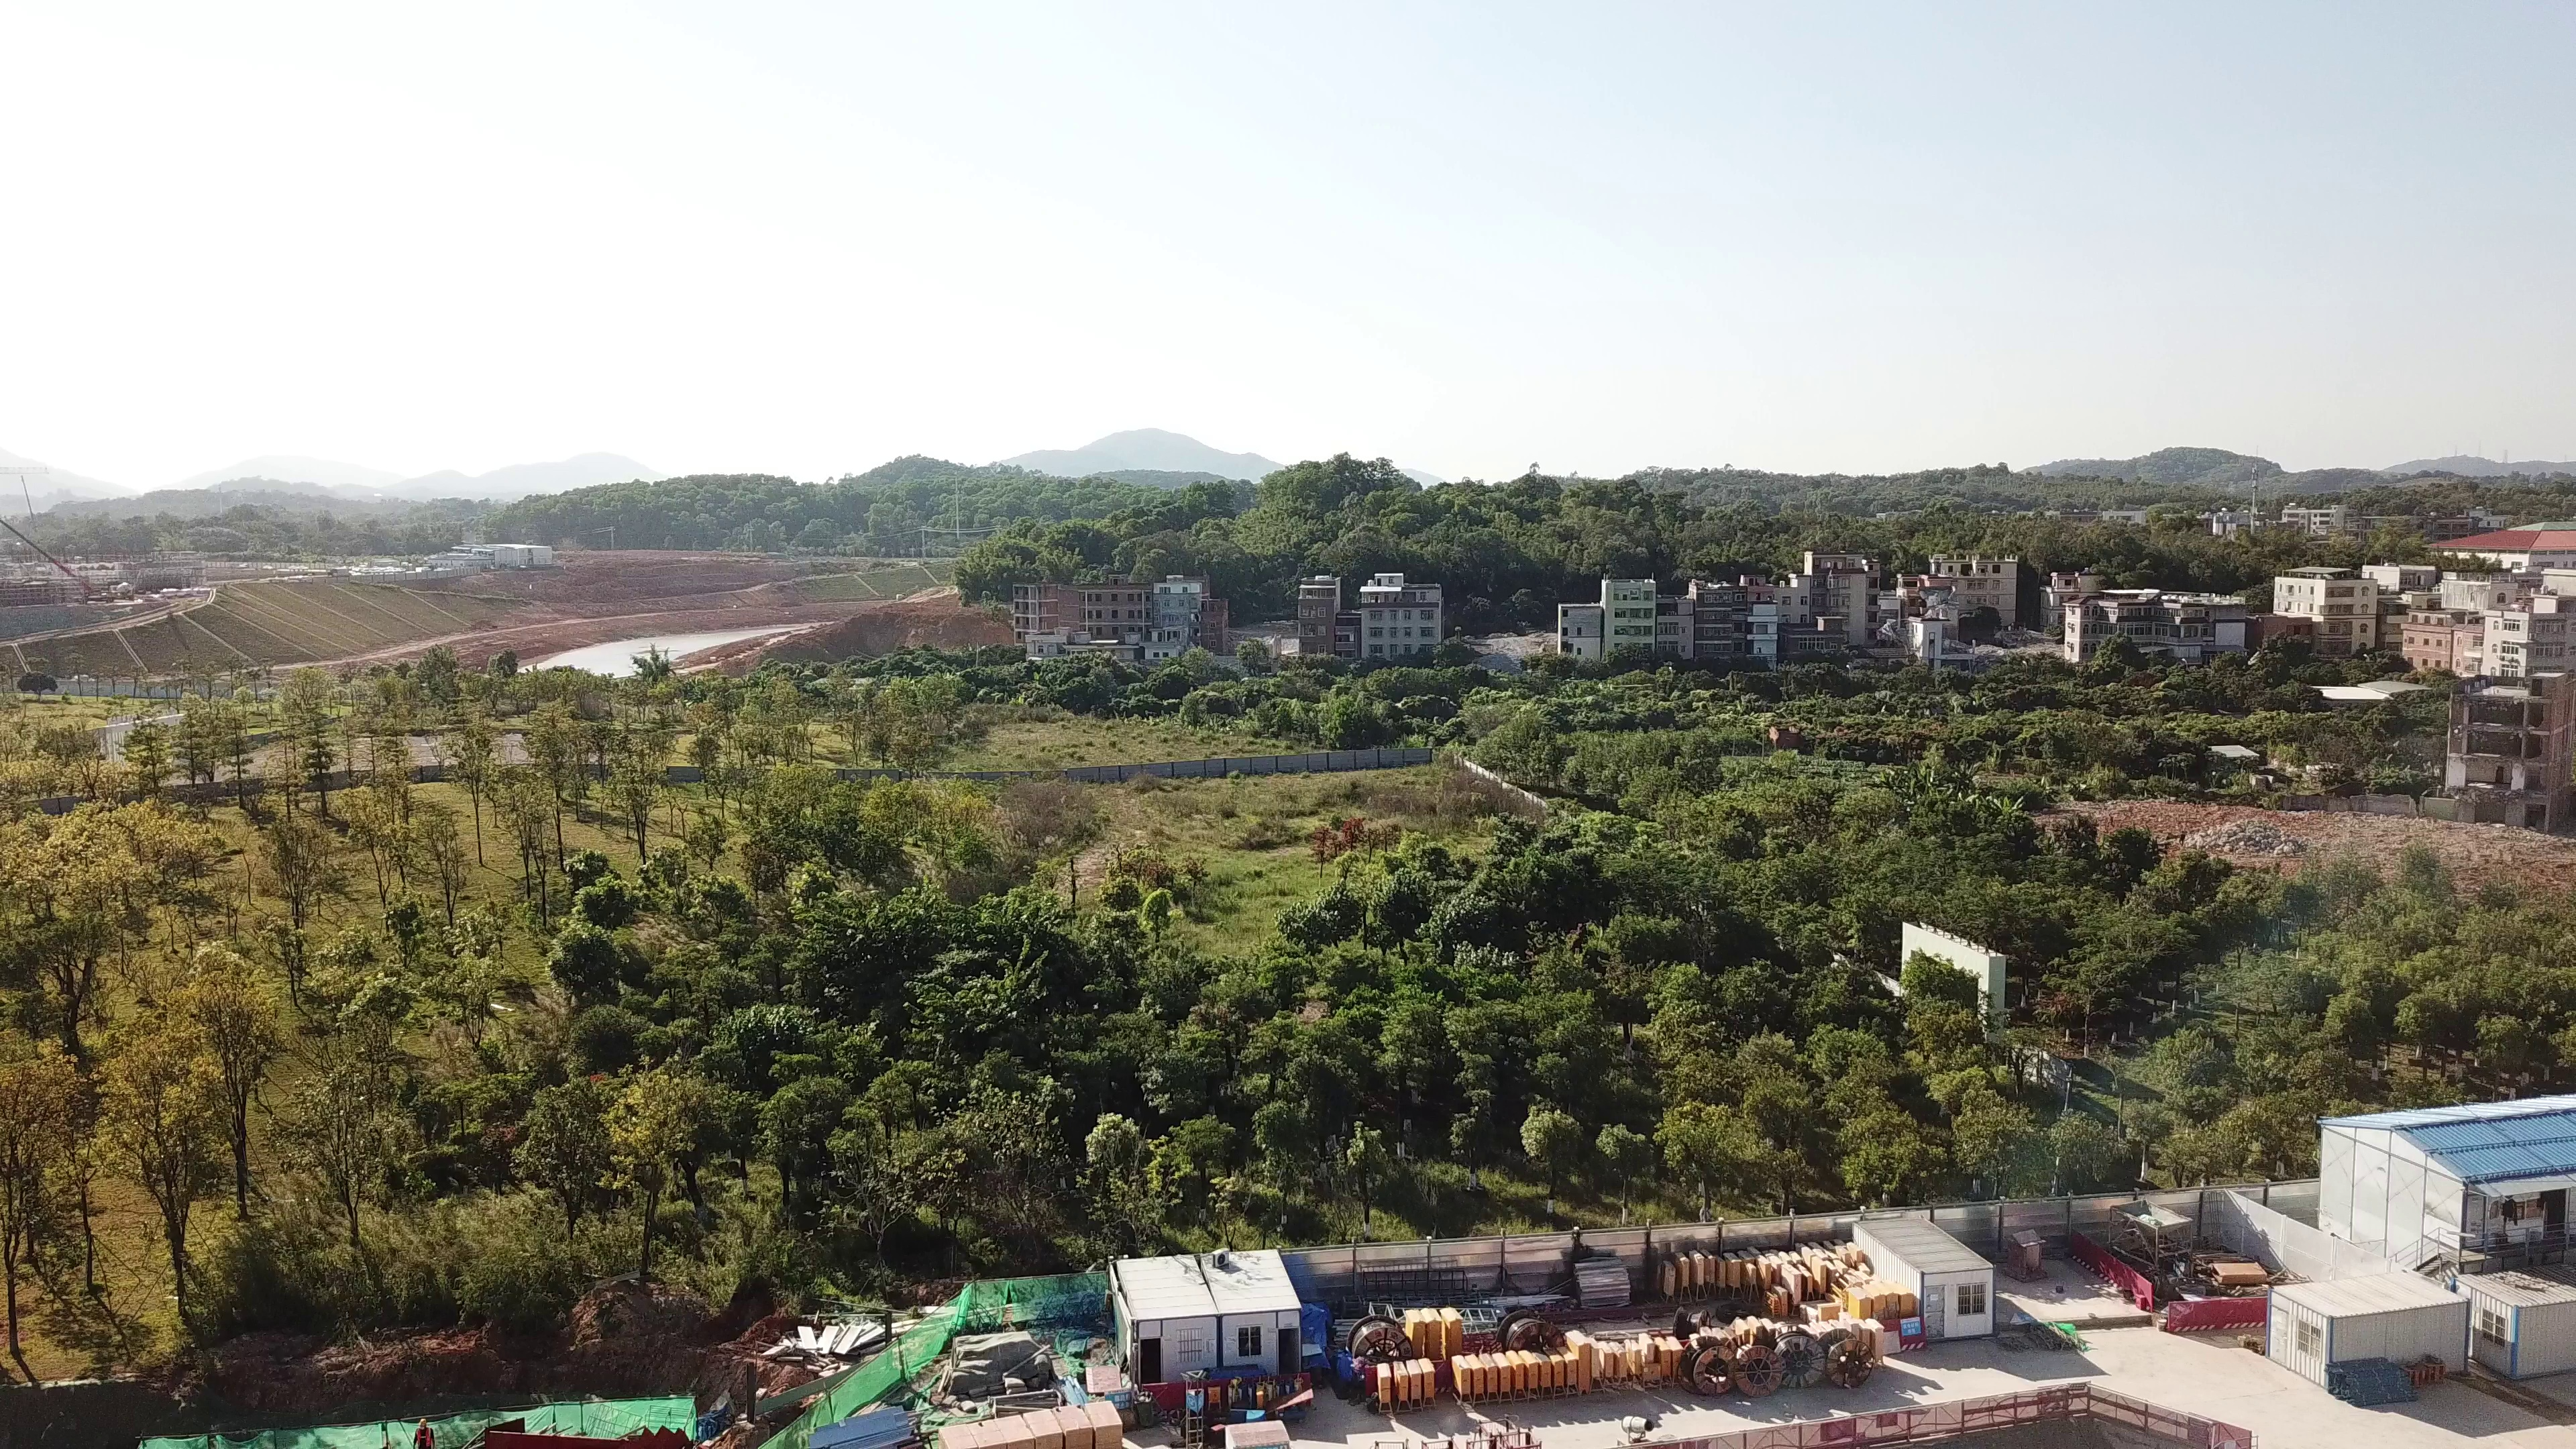fence: (1339, 1199, 2191, 1288), (1676, 1400, 2265, 1449)
helmet: (419, 1417, 428, 1424)
person: (409, 1417, 439, 1449)
vest: (415, 1426, 433, 1448)
wood: (947, 1411, 1126, 1449)
